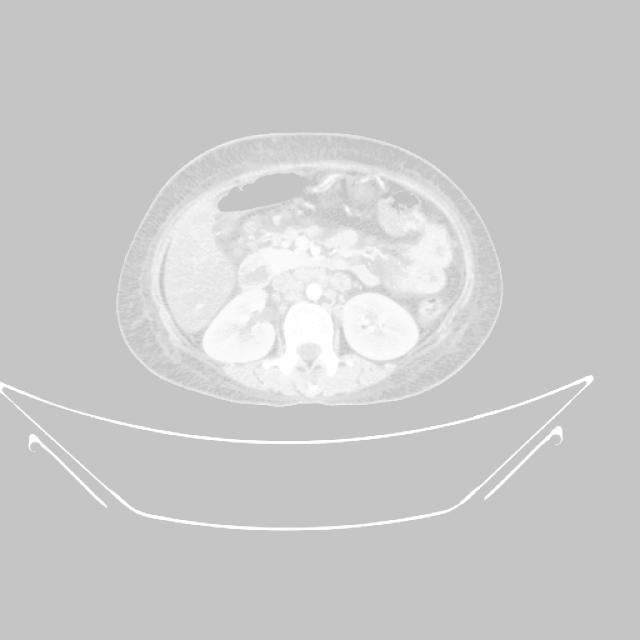NORMAL: (87, 139, 525, 403)
